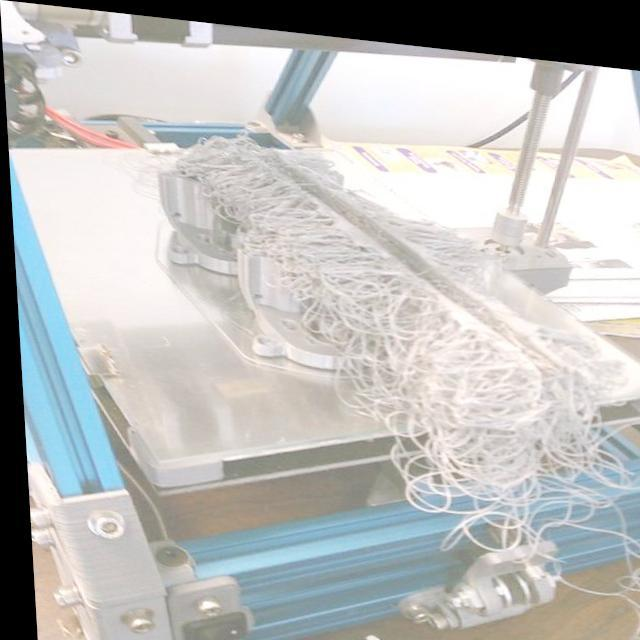spaghetti: (356, 262, 585, 554), (186, 128, 377, 354)
